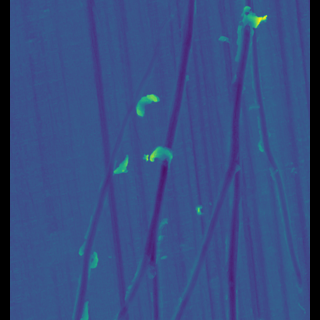Loch: (75, 0, 195, 320), (171, 18, 246, 319), (243, 26, 296, 294), (141, 143, 175, 167), (228, 8, 262, 31), (133, 92, 161, 118), (113, 155, 130, 177)
